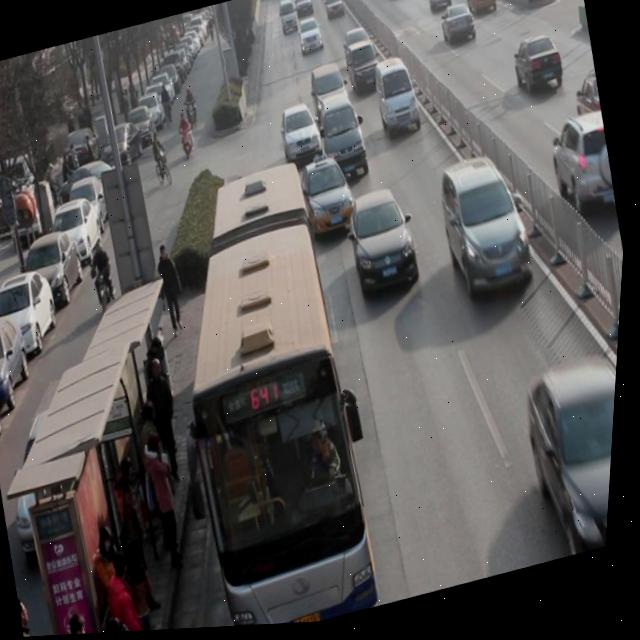car: (514, 350, 622, 569), (431, 149, 546, 309), (346, 183, 429, 303), (544, 111, 622, 220), (296, 152, 364, 244), (508, 33, 568, 102), (275, 102, 328, 166), (307, 60, 355, 120), (570, 70, 607, 134), (344, 40, 385, 97), (437, 1, 480, 52), (342, 26, 375, 64), (295, 18, 325, 56), (461, 0, 500, 21), (423, 0, 454, 17)
truck: (315, 87, 375, 183), (369, 53, 427, 142)
van: (138, 150, 407, 633)
